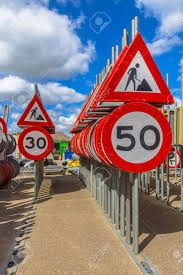sp30: (15, 125, 57, 163)
sp50: (107, 106, 177, 170)
